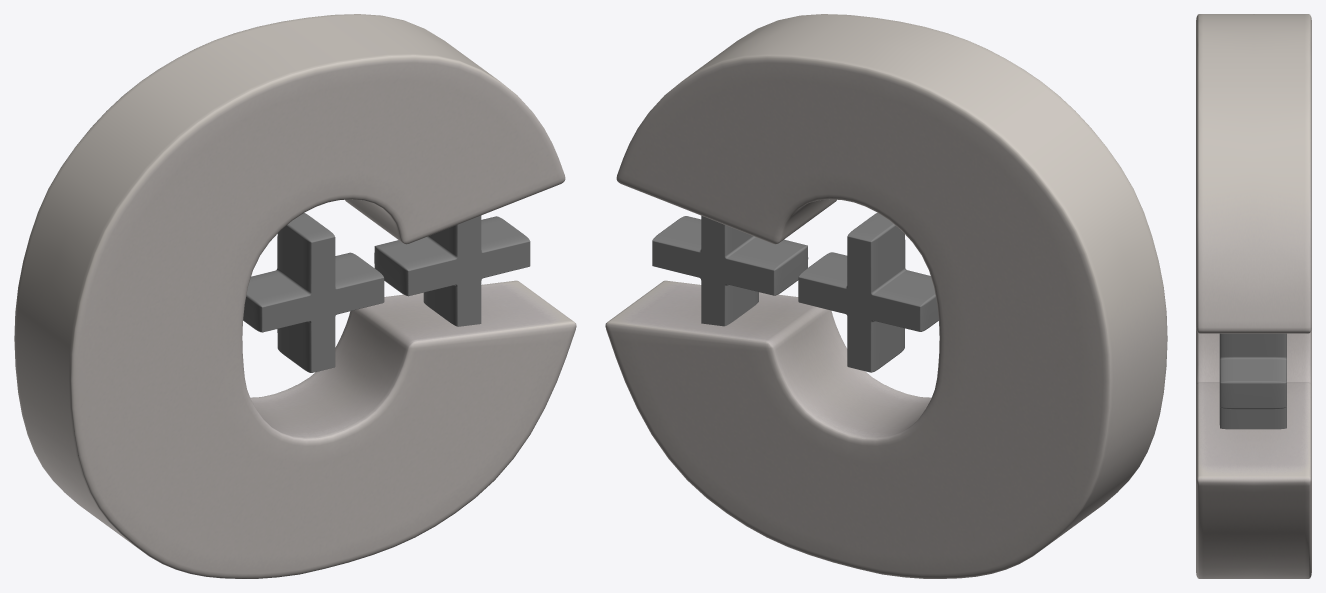
File: cpp.glb
3 renders of one model, left to right at view 1: azimuth 30°, elevation 25°; view 2: azimuth 150°, elevation 25°; view 3: azimuth 270°, elevation 25°, orthographic. The views are drawn at different scales.
Visible parts, largest first — view 1: node_id64, node_id14, node_id97; view 2: node_id64, node_id14, node_id97; view 3: node_id64, node_id97.
Part boxes in pixels (x1,y1,x2,y2): node_id64: (14,14,576,578); node_id14: (243,213,384,372); node_id97: (374,215,530,326); node_id64: (605,14,1167,578); node_id14: (798,213,938,372); node_id97: (652,216,808,326); node_id64: (1196,14,1311,578); node_id97: (1219,333,1286,429).
Bounding box in the file's own units: 0.4233 × 0.4027 × 0.0861.
2 materials, 2 textured.
